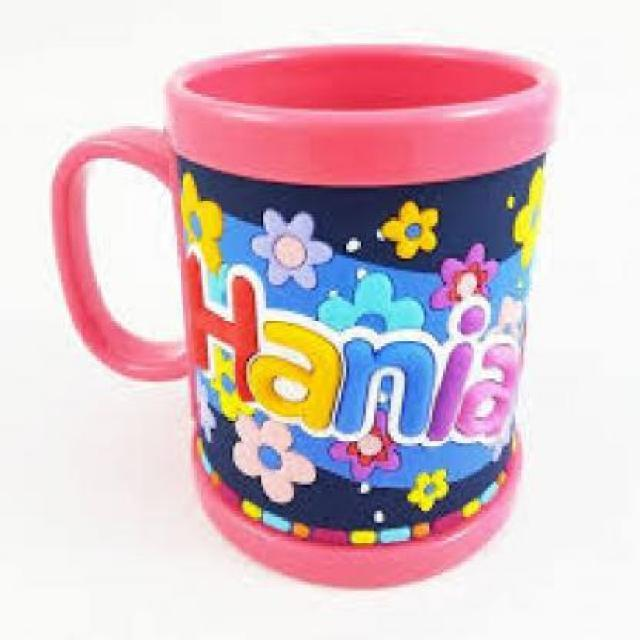cup: (42, 35, 568, 596)
